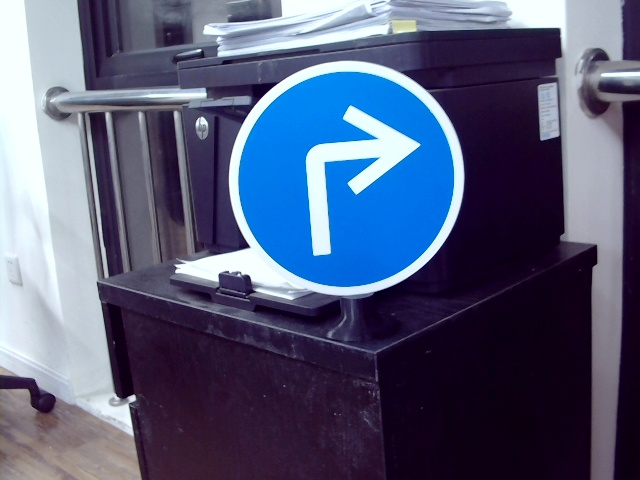turn_right: (282, 103, 424, 254)
